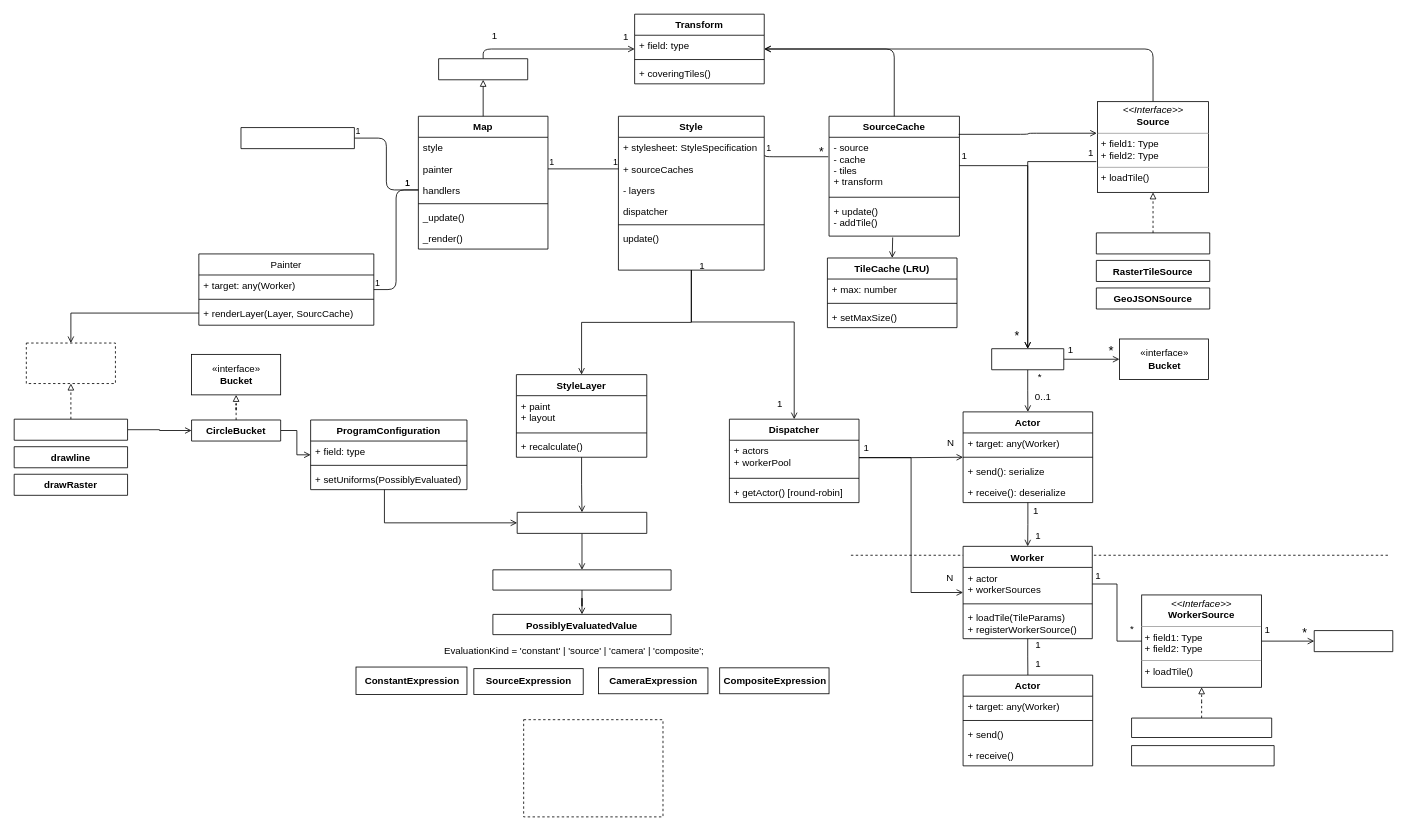
This 1407x831 diagram has some shape labels left out. Each missing label, with the centre of its shape:
"<<Interface>> Expression + type + evaluate() + serialize()" belongs at [593,768].
"Camera" belongs at [483,69].
"drawCircles" belongs at [70,429].
"GeoJSONWorkerSource" belongs at [1202,755].
"HandlerManager" belongs at [297,138].
"PossiblyEvaluated" belongs at [581,522].
"PossiblyEvaluatedPropertyValue" belongs at [581,579].
"Tile" belongs at [1027,359].
"VectorTileSource" belongs at [1153,243].
"VectorTileWorkerSource" belongs at [1201,727].
"WorkerTile" belongs at [1353,641].
"«interface» draw" belongs at [70,363].
